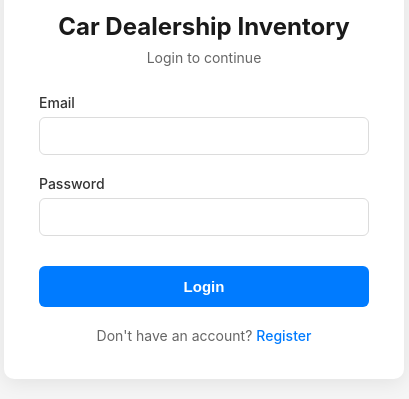
it: Login Page › submits successfully, stores token, and navigates to /dashboard
This screenshot has width=409, height=399.
Step 1. Type "john@example.com" into the field labelled "Email" → (204, 136), box [39,117,369,155]
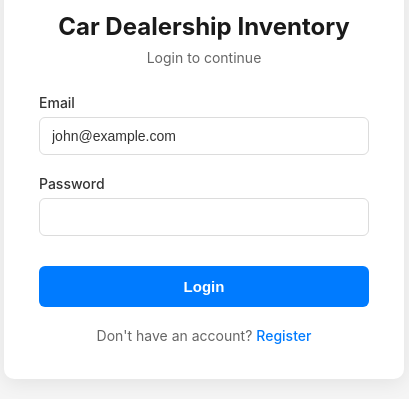
Step 2. Type "password123" into the password field labelled "Password" → (204, 217), box [39,198,369,236]
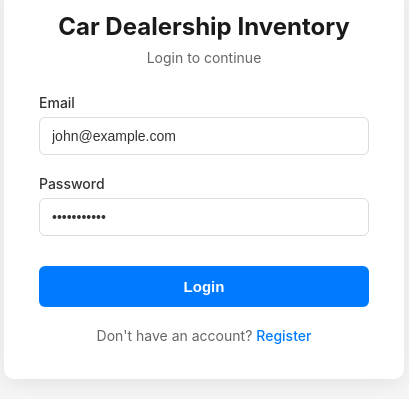
Step 3. Click the button "Login" → (204, 286), box [39,266,369,307]
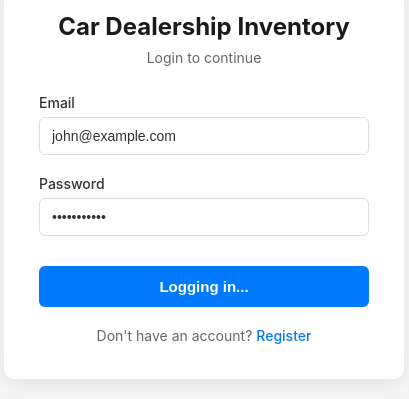
Check: the button "Logging in..." is disabled, box [39,266,369,307]
